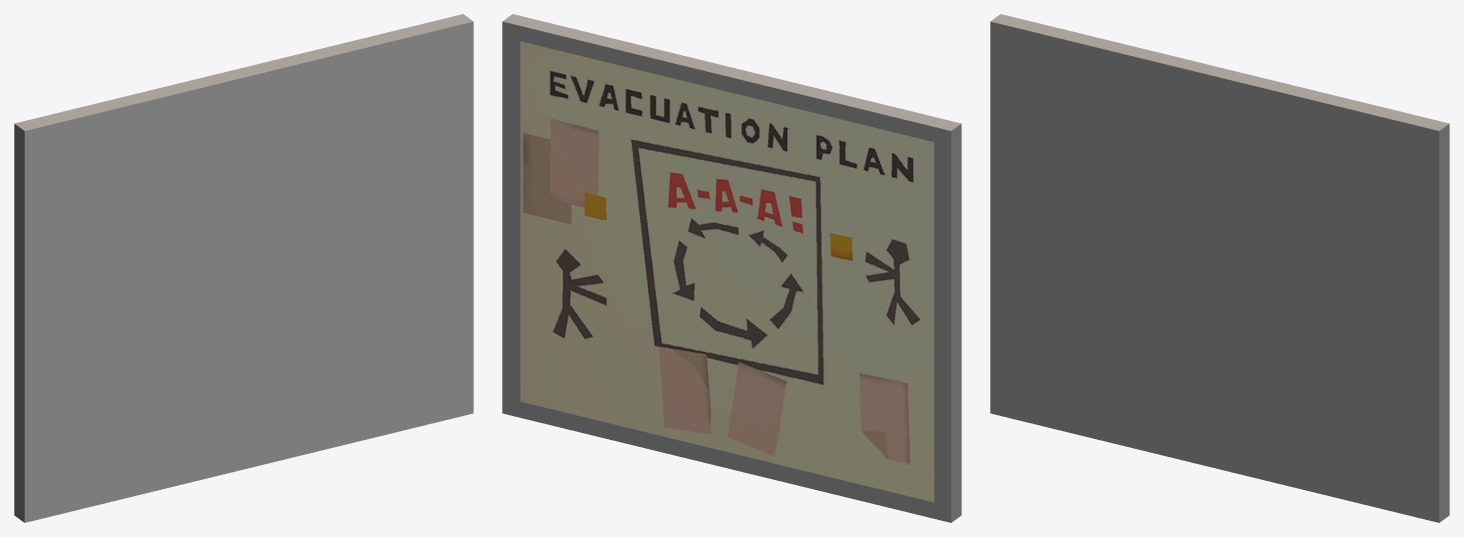
The model's file is InPlayUnitBoxGarageGroup.glb.
The picture shows the model from 3 angles, left to right: view 1: azimuth 30°, elevation 25°; view 2: azimuth 150°, elevation 25°; view 3: azimuth 330°, elevation 25°; orthographic projection.
Visible parts, largest first — view 1: AI_Prop_Whiteboard_Ads; view 2: InPlayUnitBoxGarage, AI_Prop_Whiteboard_Ads; view 3: AI_Prop_Whiteboard_Ads.
Part boxes in pixels (x1=…): AI_Prop_Whiteboard_Ads: x1=14, y1=14, x2=473, y2=522; InPlayUnitBoxGarage: x1=520, y1=41, x2=934, y2=502; AI_Prop_Whiteboard_Ads: x1=502, y1=14, x2=961, y2=522; AI_Prop_Whiteboard_Ads: x1=990, y1=14, x2=1449, y2=522.
Size of the model in its own units: 2.26 by 1.89 by 0.0916.
2 materials, 2 textured.
